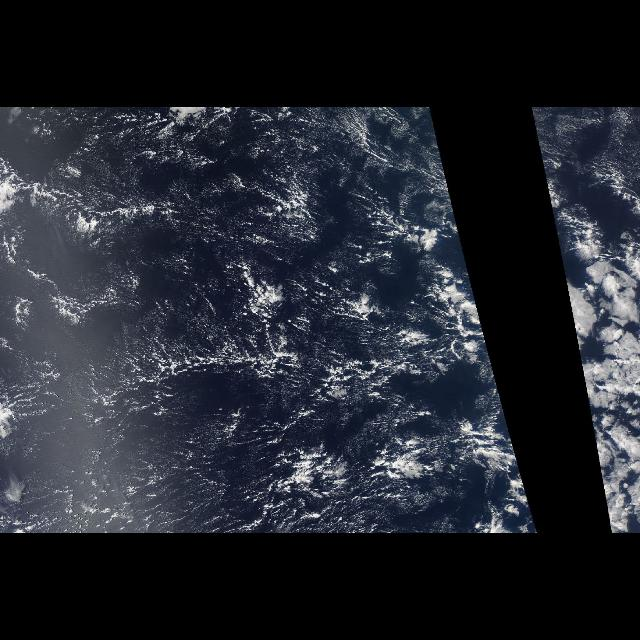Fish: (75, 334, 313, 410)
Flower: (551, 221, 637, 524), (524, 478, 536, 524)
Sugar: (11, 175, 432, 533)
